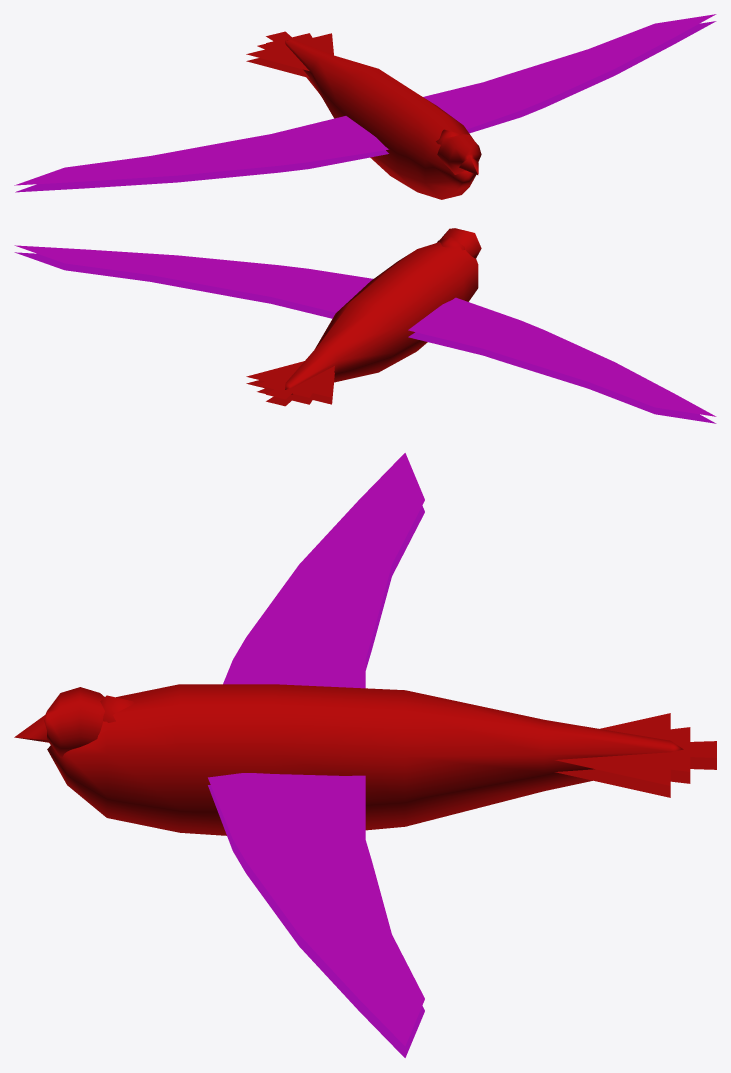
File: noddy.glb
3 views of the same model, one above another, from view 1: azimuth 30°, elevation 25°; view 2: azimuth 150°, elevation 25°; view 3: azimuth 270°, elevation 25° (orthographic). The views are drawn at different scales.
Visible parts, largest first — view 1: bird; view 2: bird; view 3: bird.
Boxes of the visible parts, x1,y1,x2,y2 form: bird: (14,14,716,199); bird: (14,228,716,423); bird: (14,453,716,1057).
Size of the model in its own units: 0.8281 by 0.0859 by 0.4141.
